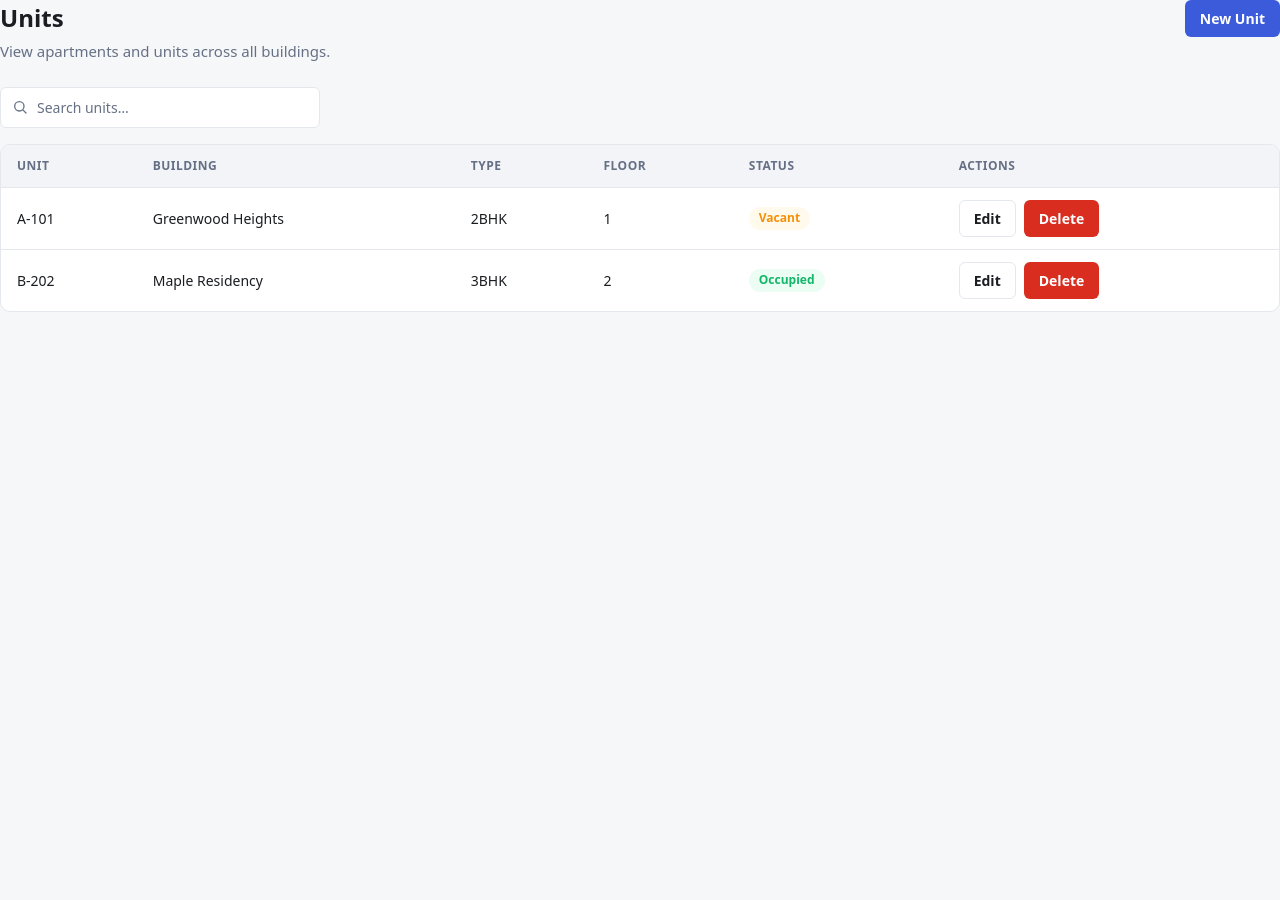
Test: UnitsPage CRUD functionality › opens the existing New Unit modal and loads Building options
Expected: the text "A-101" is shown, [1,187,137,249]
Click the button "New Unit" at (1232, 18), box [1185,0,1279,37]
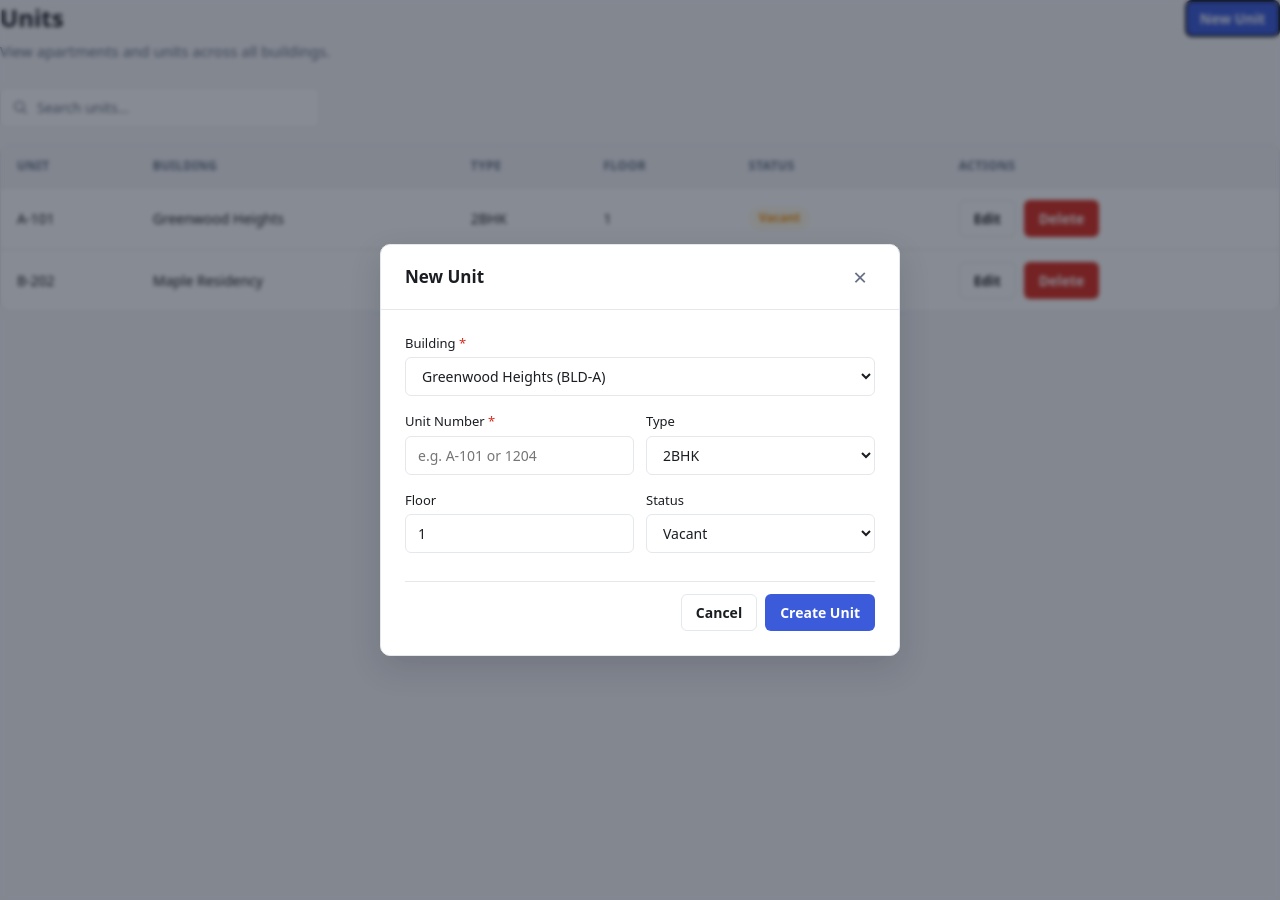
Now the dialog "New Unit" is shown, box [380,244,900,656]
